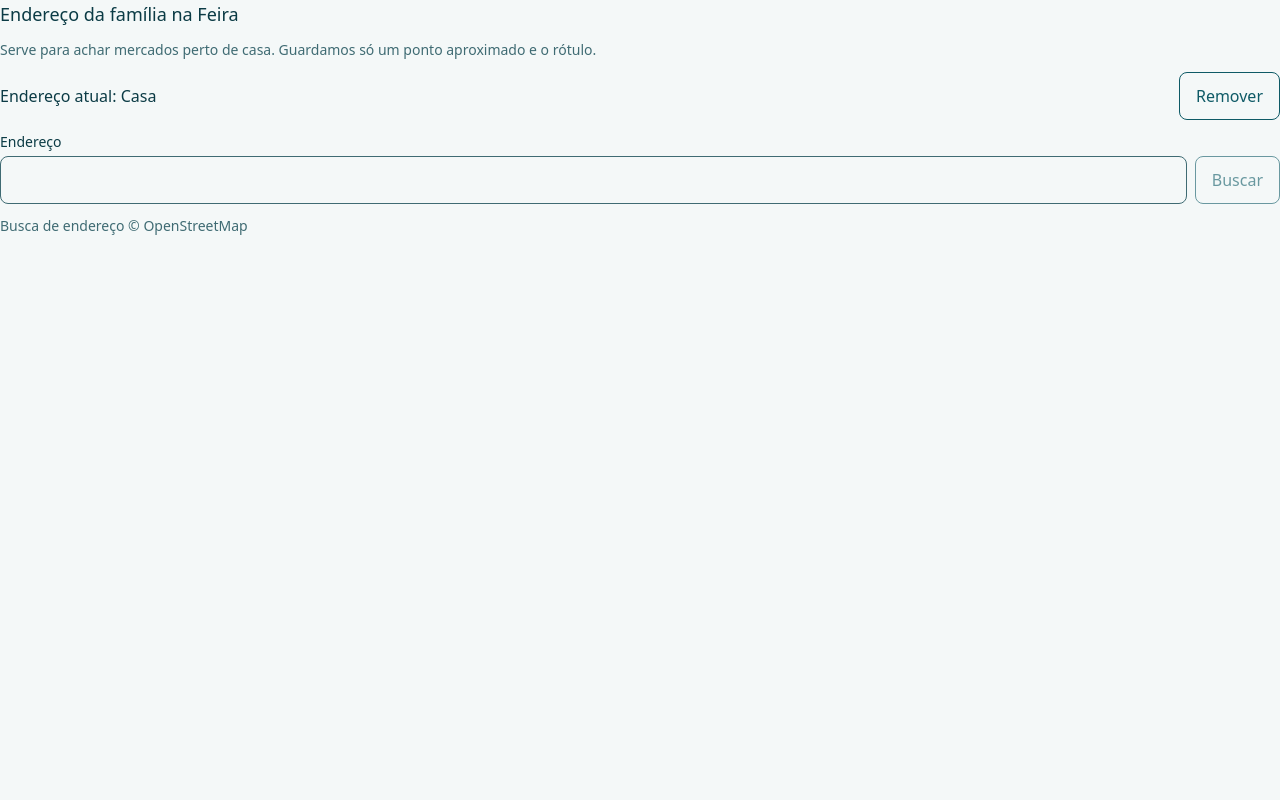
it: MarketHomeSection › removeAsksFirst
Click the button "Remover": (1229, 96) [1179,72,1279,120]
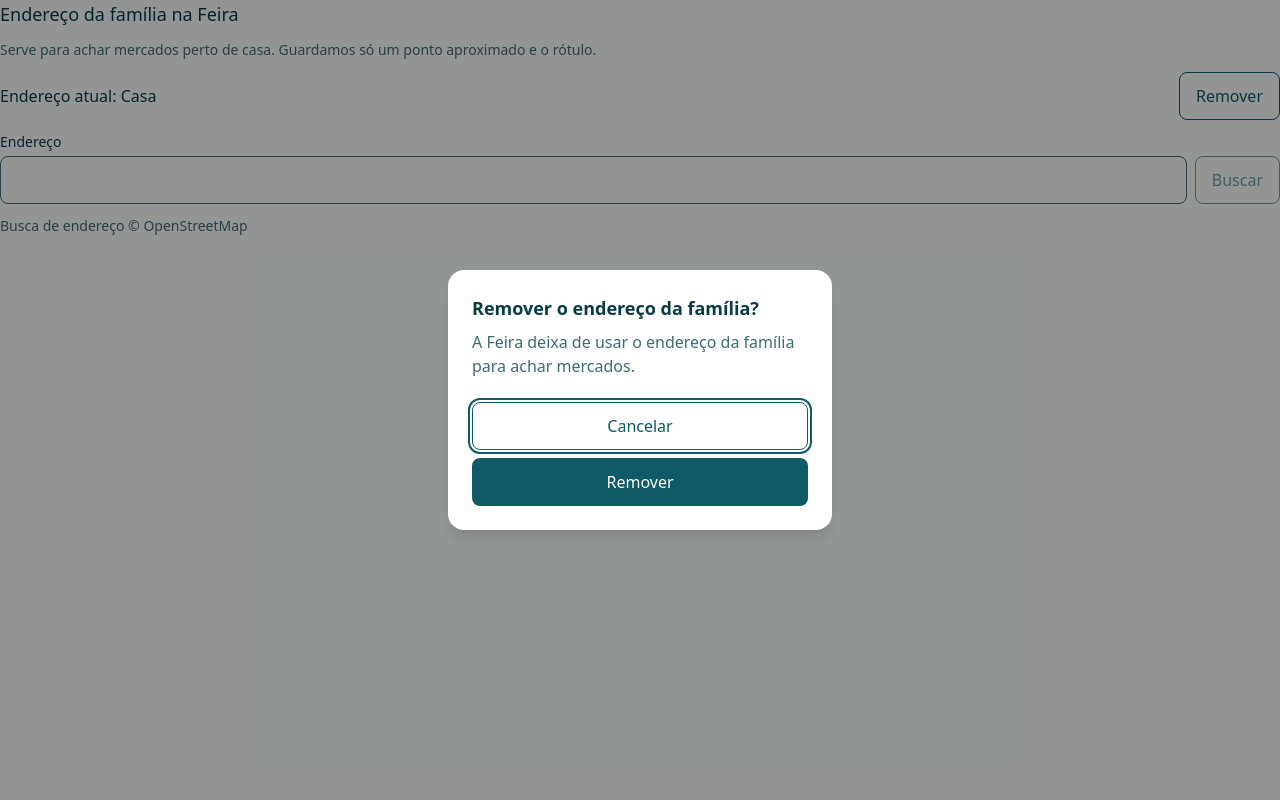
Click the button "Remover": (640, 482) [472,458,808,506]
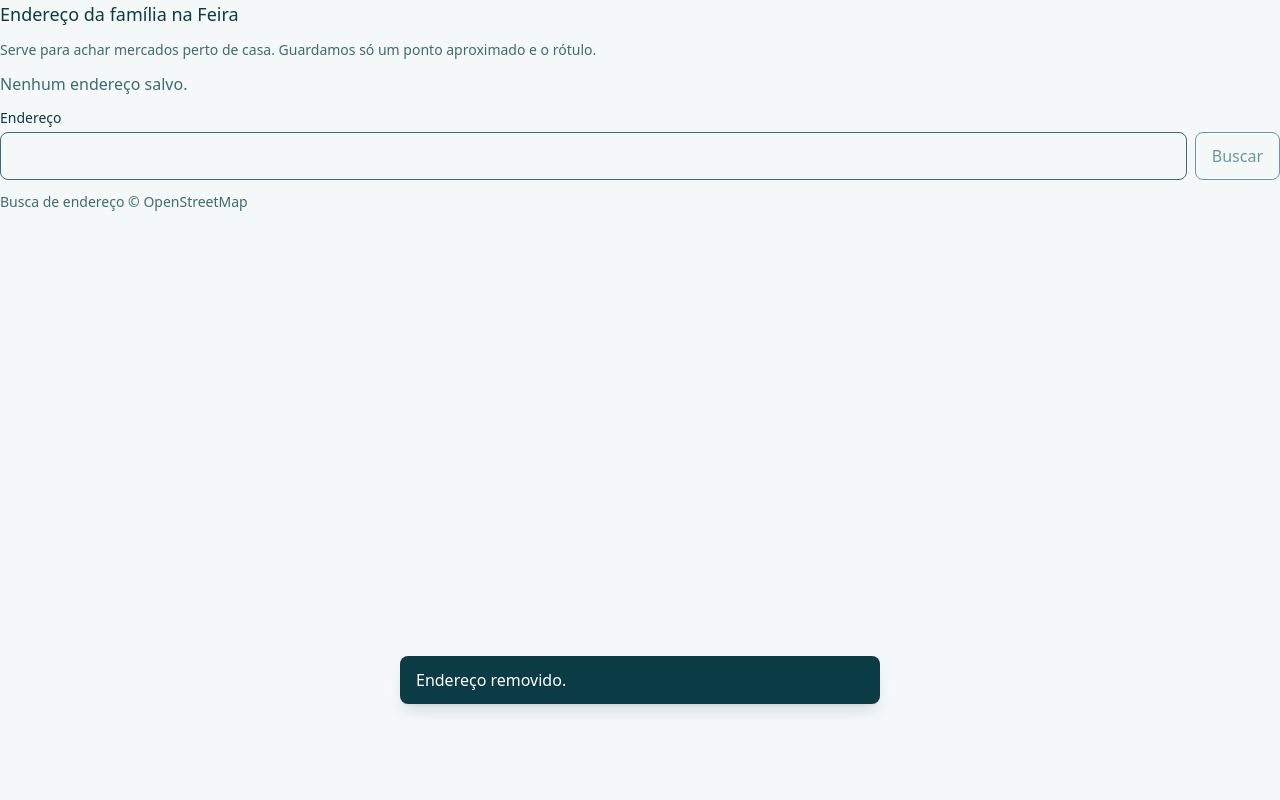
Expected: the text "Nenhum endereço salvo." is shown, [0,73,188,95]
